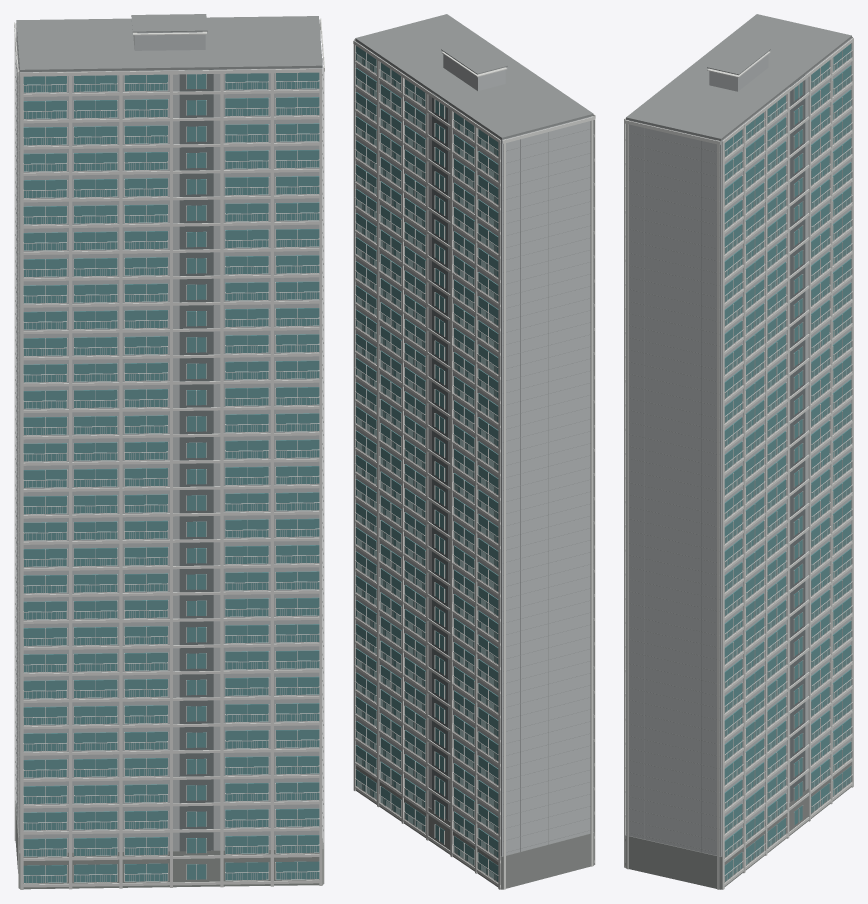
Rendered from bespoke-jamsil-ricenz-264.glb.
3 views of the same model, side by side, from view 1: azimuth 30°, elevation 25°; view 2: azimuth 150°, elevation 25°; view 3: azimuth 270°, elevation 25° (orthographic). The views are drawn at different scales.
Parts seen in each view (by area): view 1: Ricenz264_editable_Ricenz264_turquoise_balcony_glazing, Ricenz264_editable_Ricenz264_light_grey_solid_wall, Ricenz264_white_exact_chunk_1, Ricenz264_white_exact_chunk_2, Ricenz264_white_exact_chunk_0, Ricenz264_editable_Ricenz264_modest_grey_flat_roof_caps, Ricenz264_editable_Ricenz264_narrow_charcoal_service_strips, Ricenz264_editable_Ricenz264_muted_ground_wall; view 2: Ricenz264_editable_Ricenz264_light_grey_solid_wall, Ricenz264_editable_Ricenz264_turquoise_balcony_glazing, Ricenz264_white_exact_chunk_4, Ricenz264_white_exact_chunk_3, Ricenz264_editable_Ricenz264_modest_grey_flat_roof_caps, Ricenz264_white_exact_chunk_2, Ricenz264_editable_Ricenz264_narrow_charcoal_service_strips, Ricenz264_white_exact_chunk_0, Ricenz264_editable_Ricenz264_muted_ground_wall; view 3: Ricenz264_editable_Ricenz264_light_grey_solid_wall, Ricenz264_editable_Ricenz264_turquoise_balcony_glazing, Ricenz264_white_exact_chunk_4, Ricenz264_white_exact_chunk_3, Ricenz264_white_exact_chunk_2, Ricenz264_editable_Ricenz264_modest_grey_flat_roof_caps, Ricenz264_editable_Ricenz264_narrow_charcoal_service_strips, Ricenz264_editable_Ricenz264_muted_ground_wall.
Part boxes in pixels (x1,y1,x2,y2): Ricenz264_editable_Ricenz264_turquoise_balcony_glazing: [23, 72, 319, 882]; Ricenz264_editable_Ricenz264_light_grey_solid_wall: [16, 25, 322, 852]; Ricenz264_white_exact_chunk_1: [122, 73, 319, 885]; Ricenz264_white_exact_chunk_2: [20, 18, 324, 889]; Ricenz264_white_exact_chunk_0: [14, 22, 169, 888]; Ricenz264_editable_Ricenz264_modest_grey_flat_roof_caps: [15, 14, 323, 848]; Ricenz264_editable_Ricenz264_narrow_charcoal_service_strips: [179, 69, 213, 851]; Ricenz264_editable_Ricenz264_muted_ground_wall: [15, 803, 323, 889]; Ricenz264_editable_Ricenz264_light_grey_solid_wall: [355, 40, 593, 856]; Ricenz264_editable_Ricenz264_turquoise_balcony_glazing: [356, 46, 498, 881]; Ricenz264_white_exact_chunk_4: [353, 40, 507, 889]; Ricenz264_white_exact_chunk_3: [379, 62, 474, 870]; Ricenz264_editable_Ricenz264_modest_grey_flat_roof_caps: [355, 14, 593, 853]; Ricenz264_white_exact_chunk_2: [354, 39, 595, 864]; Ricenz264_editable_Ricenz264_narrow_charcoal_service_strips: [432, 93, 448, 820]; Ricenz264_white_exact_chunk_0: [502, 116, 594, 889]; Ricenz264_editable_Ricenz264_muted_ground_wall: [355, 761, 594, 889]; Ricenz264_editable_Ricenz264_light_grey_solid_wall: [626, 38, 851, 856]; Ricenz264_editable_Ricenz264_turquoise_balcony_glazing: [724, 43, 851, 881]; Ricenz264_white_exact_chunk_4: [707, 38, 853, 889]; Ricenz264_white_exact_chunk_3: [745, 81, 831, 852]; Ricenz264_white_exact_chunk_2: [624, 118, 765, 889]; Ricenz264_editable_Ricenz264_modest_grey_flat_roof_caps: [626, 14, 851, 852]; Ricenz264_editable_Ricenz264_narrow_charcoal_service_strips: [790, 75, 805, 802]; Ricenz264_editable_Ricenz264_muted_ground_wall: [625, 758, 851, 889].
Size of the model in its own units: 33.12 by 93.91 by 25.42.
